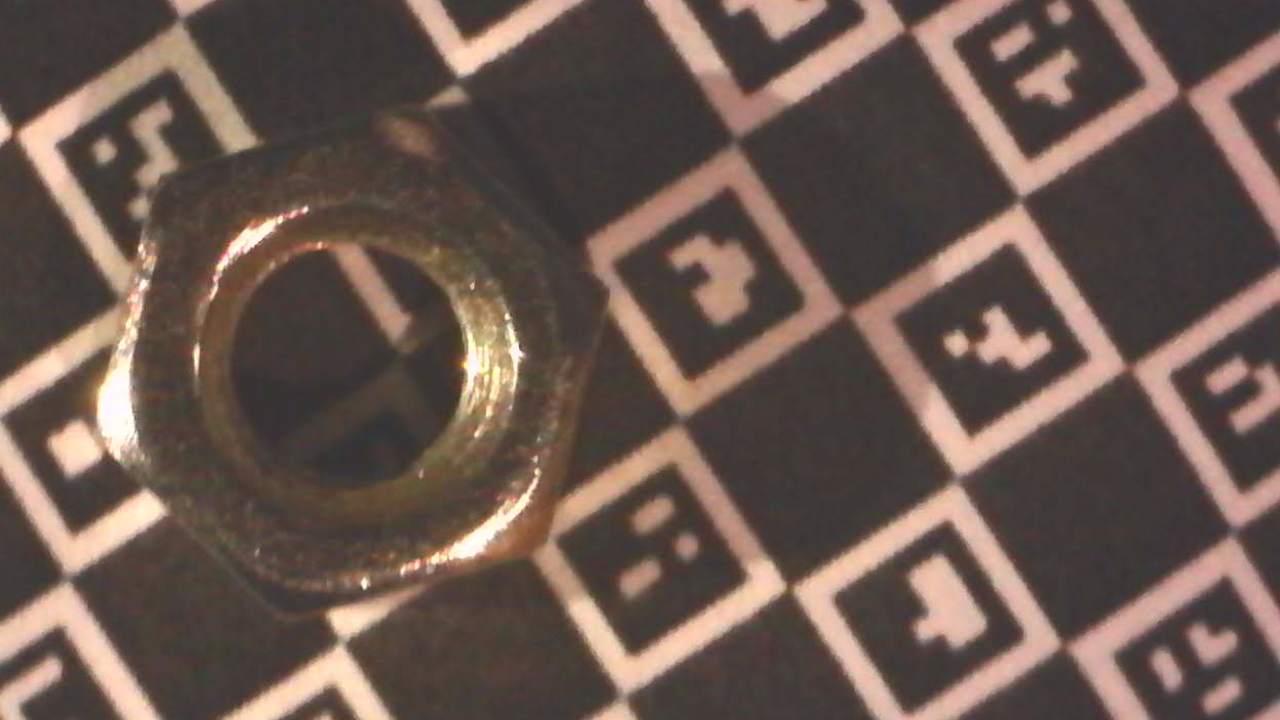Bolt: (94, 95, 616, 629)
